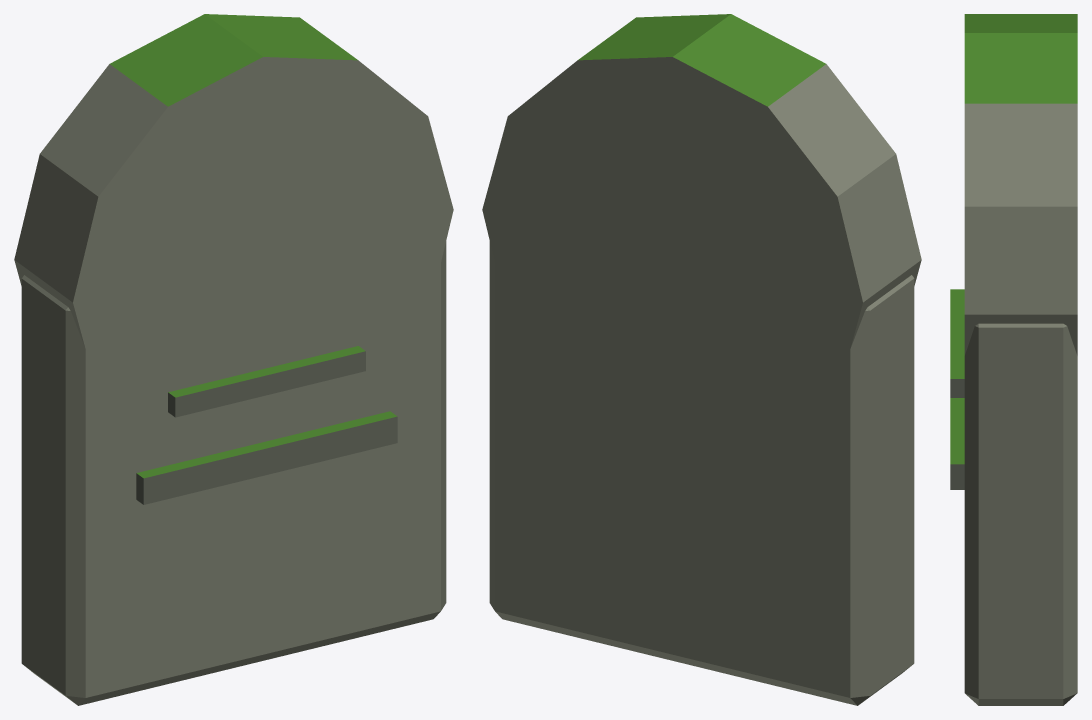
Rendered from Grave_Rounded.fbx.
3 renders of one model, left to right at view 1: azimuth 30°, elevation 25°; view 2: azimuth 150°, elevation 25°; view 3: azimuth 270°, elevation 25°, orthographic. The views are drawn at different scales.
Visible parts, largest first — view 1: Grave_Rounded.001; view 2: Grave_Rounded.001; view 3: Grave_Rounded.001.
Boxes of the visible parts, bbox=[...] form: Grave_Rounded.001: bbox=[14, 14, 453, 705]; Grave_Rounded.001: bbox=[482, 14, 921, 705]; Grave_Rounded.001: bbox=[950, 14, 1077, 705].
Size of the model in its own units: 0.6 by 0.92 by 0.18.
